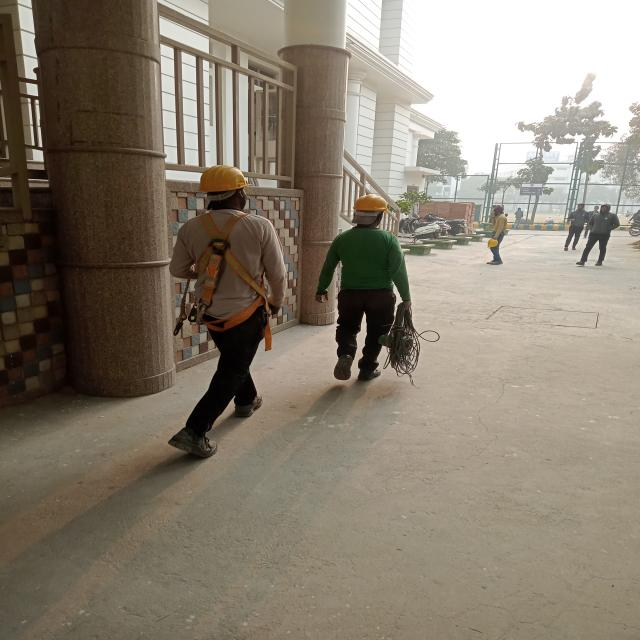no jacket: (172, 166, 285, 456), (316, 193, 411, 381)
unsafe: (578, 204, 620, 265), (486, 203, 510, 266), (563, 203, 590, 251), (514, 208, 524, 229)
